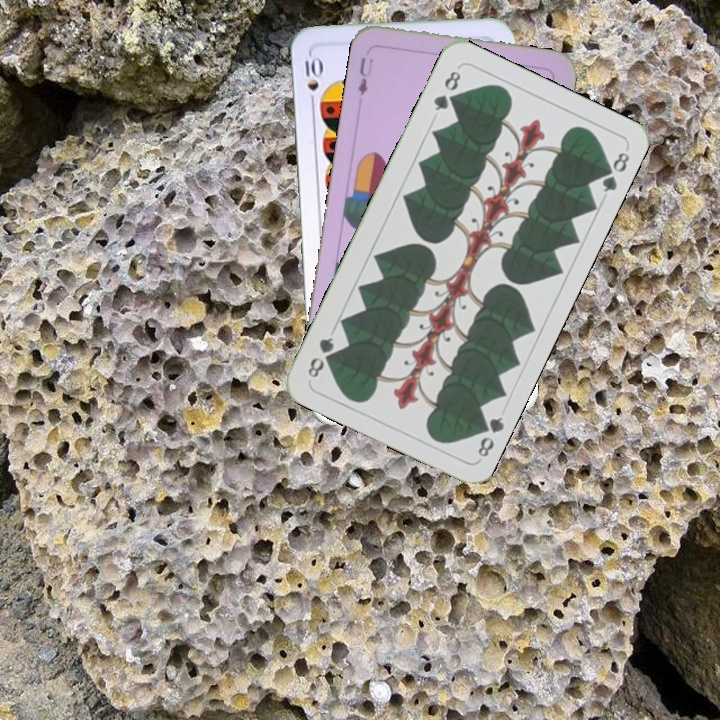EU: (354, 54, 376, 98)
G8: (472, 412, 507, 460), (429, 66, 463, 114)
S10: (301, 51, 323, 110)
